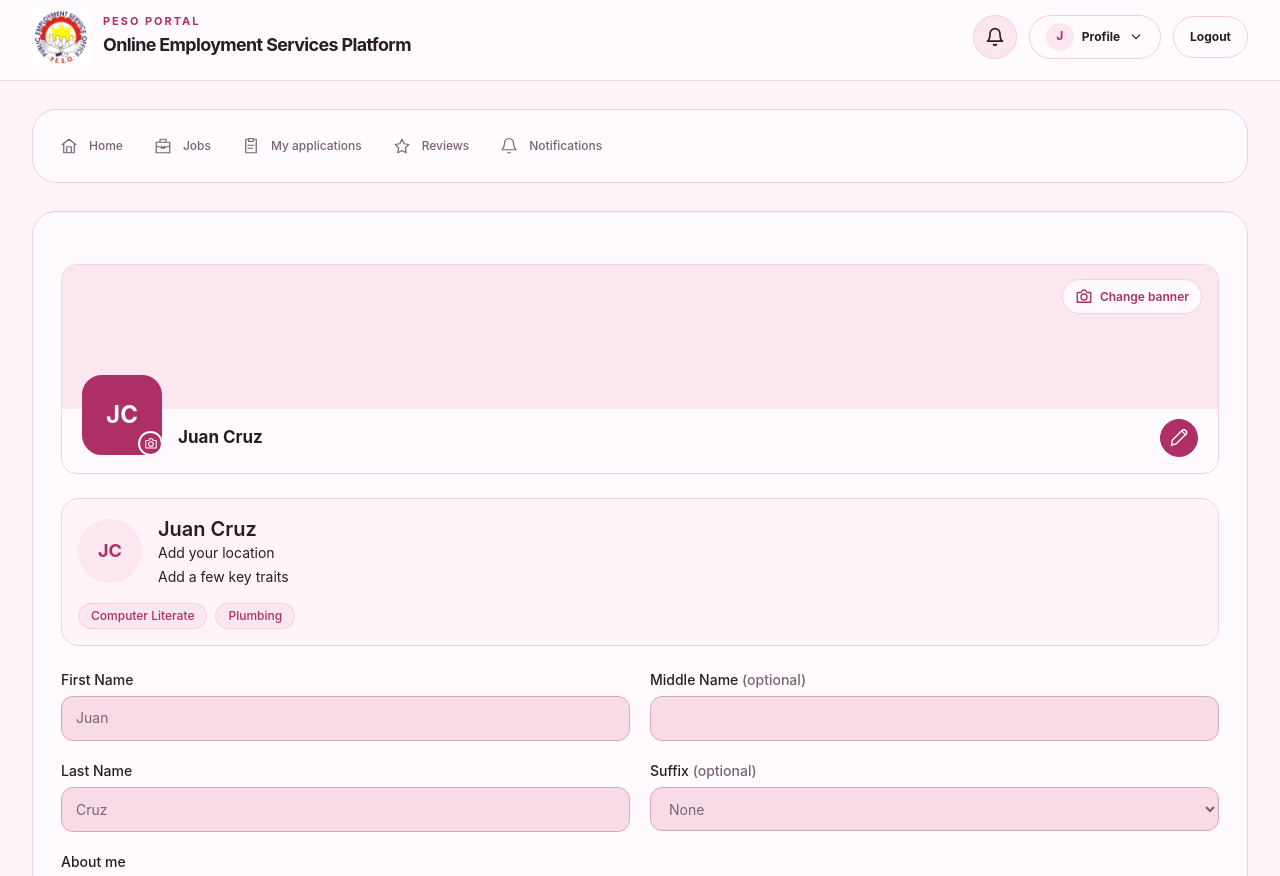
Test: profile editing and NSRP skills › keeps NSRP skills out of About me and puts the edit pencil at the top
The image size is (1280, 876).
Check: the text "Plumbing" is shown, box 216,603 -> 295,629
Click the button named "Edit profile" at (1179, 438), box 1160,419 -> 1198,457
(page scrolled)
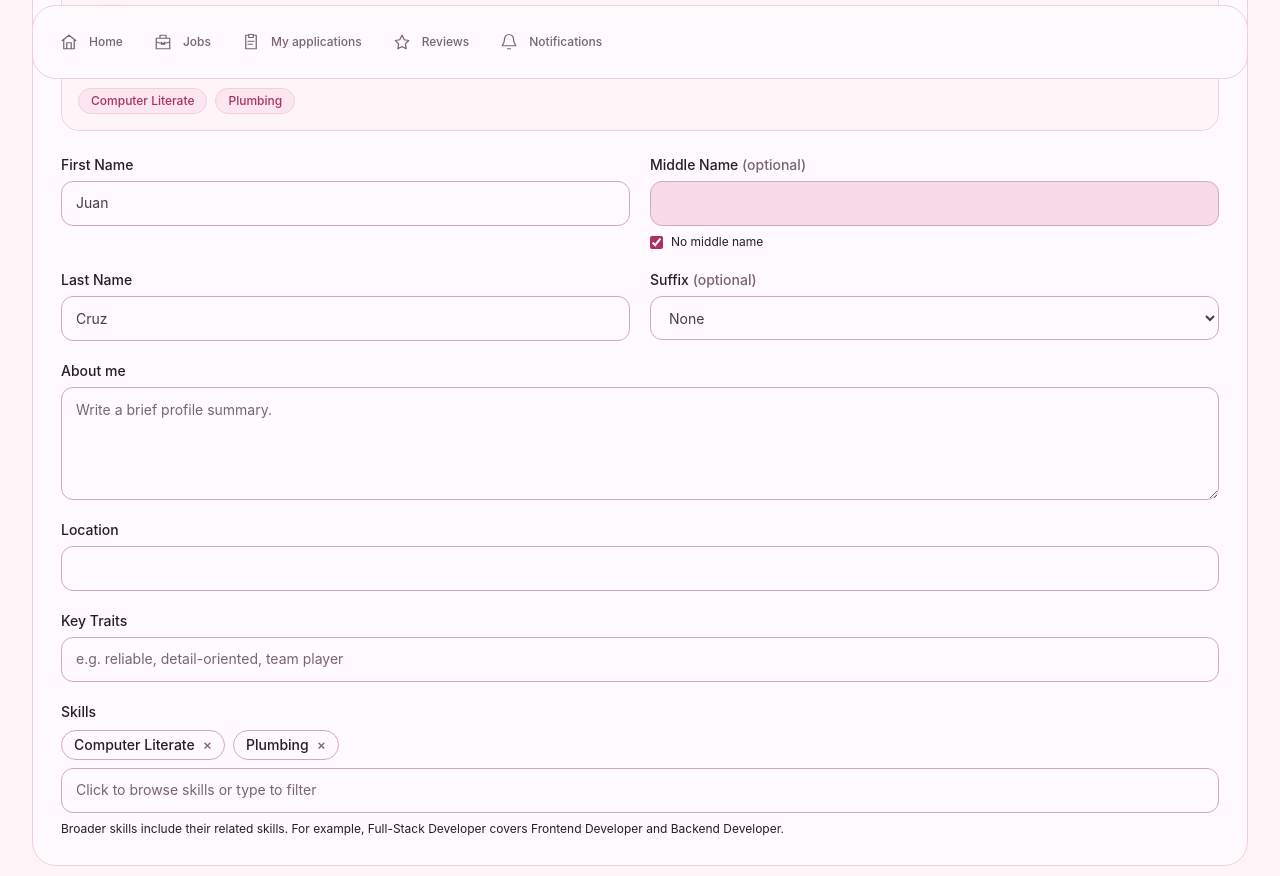
Check: the text box labelled "About me" is enabled
Type "I enjoy helping customers." into the text box labelled "About me" at (640, 443), box 61,387 -> 1219,500
(page scrolled)
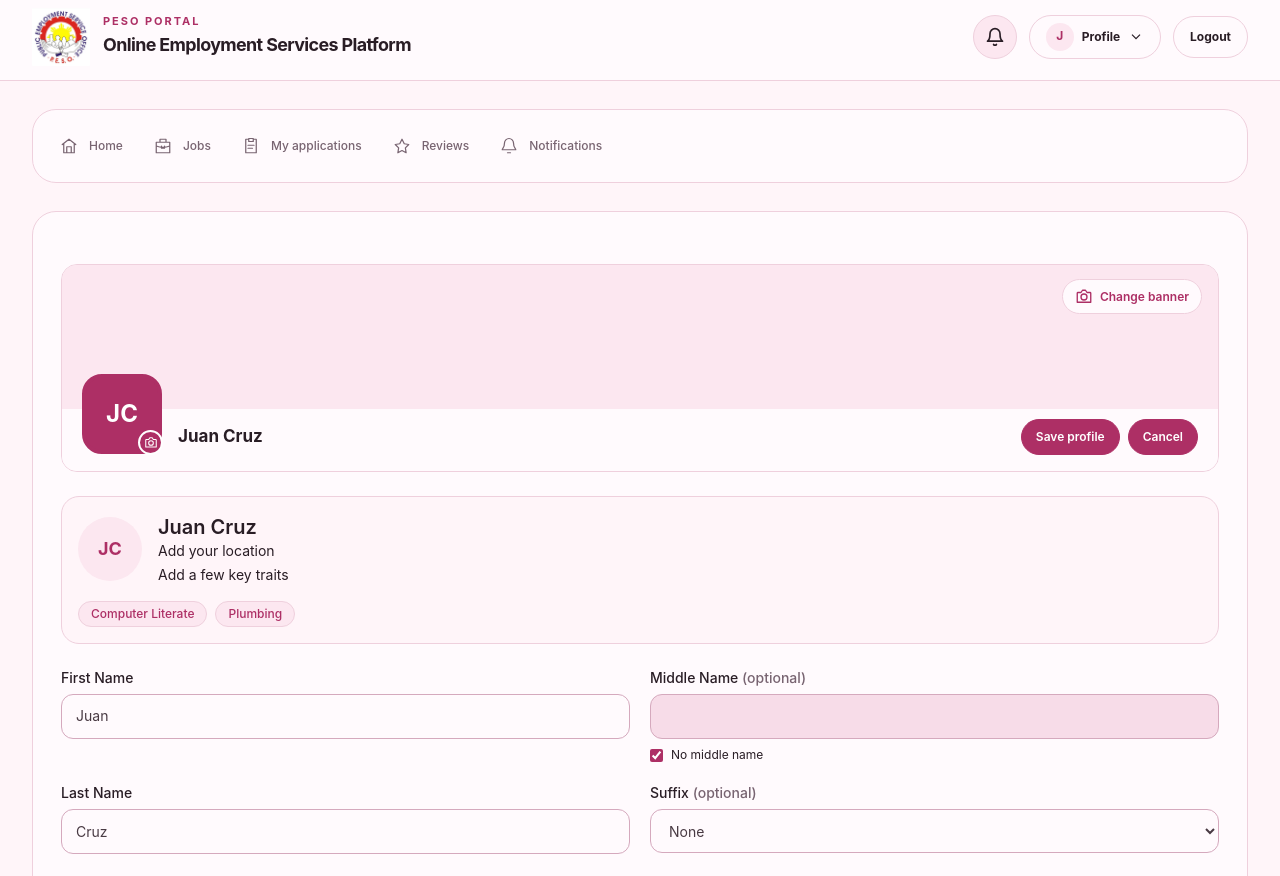
Click the button "Cancel" at (1163, 437), box 1128,419 -> 1198,455
(page scrolled)
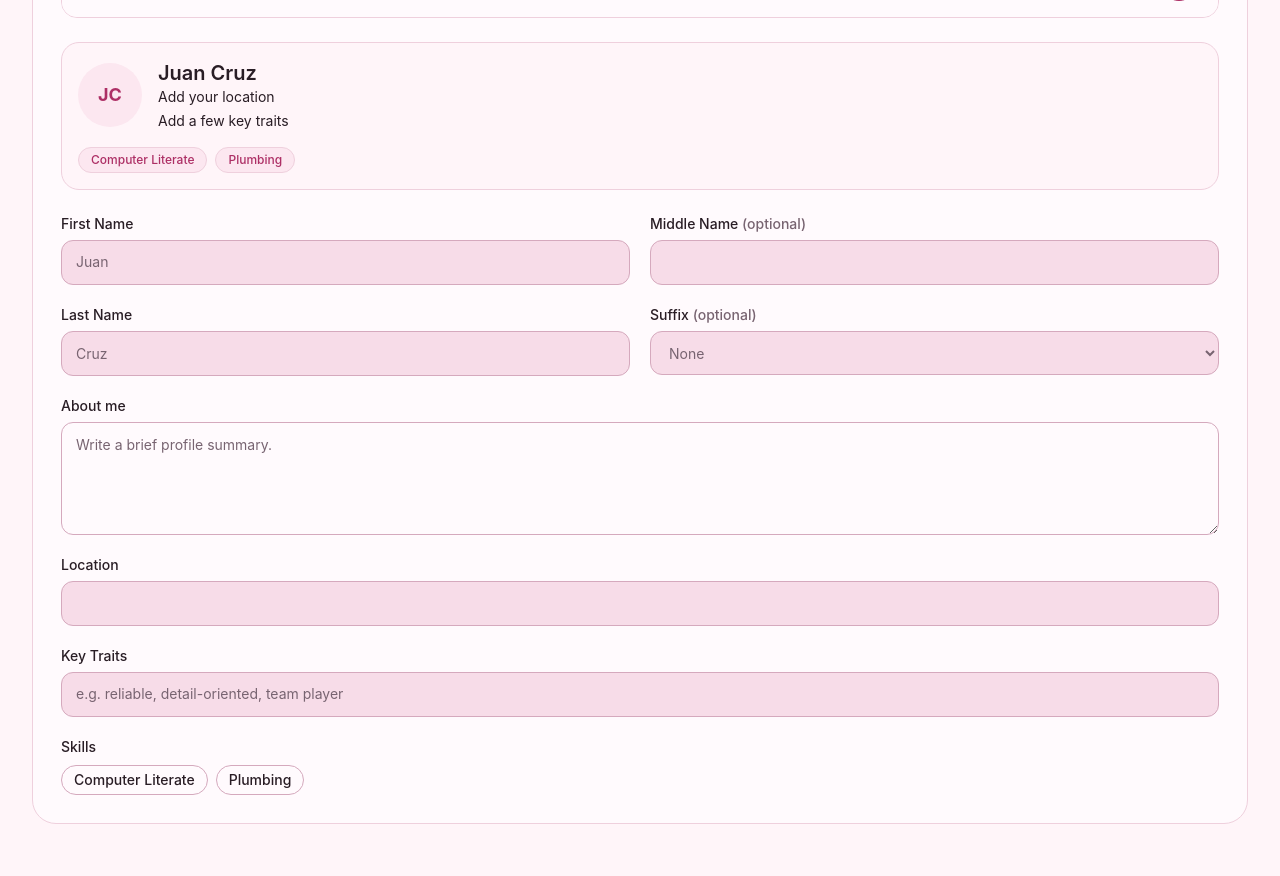
Check: the text box labelled "About me" is empty, box 61,422 -> 1219,535
